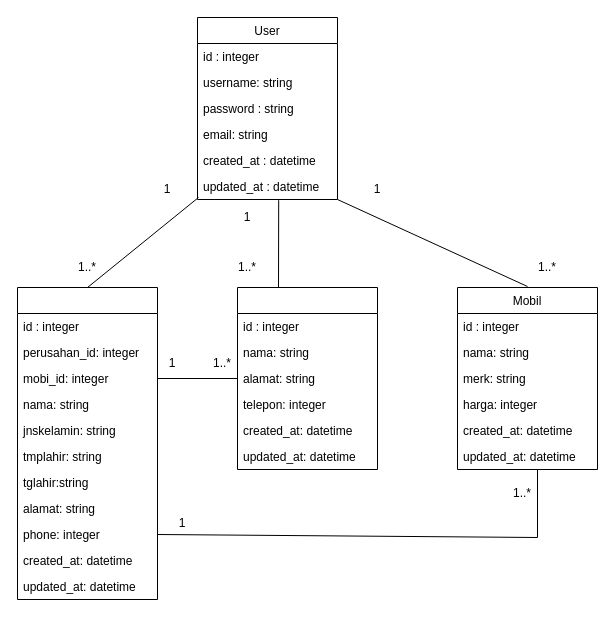
The diagram is 615 pixels wide and 620 high, and some of its shapes have lost their labels. Here are the shapes that lost their labels. From the top down, the box of each, then its label:
(236, 286, 378, 470): Perusahan
(16, 286, 158, 600): Karyawan
